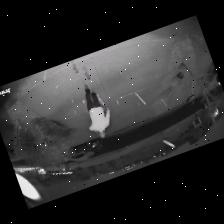person: (85, 84, 110, 136)
